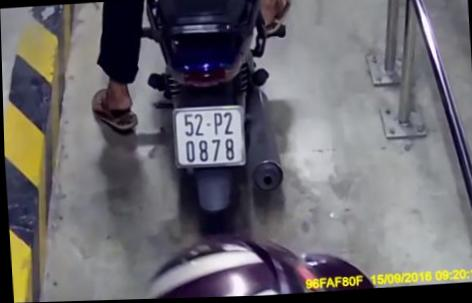LP: (167, 102, 247, 173)
